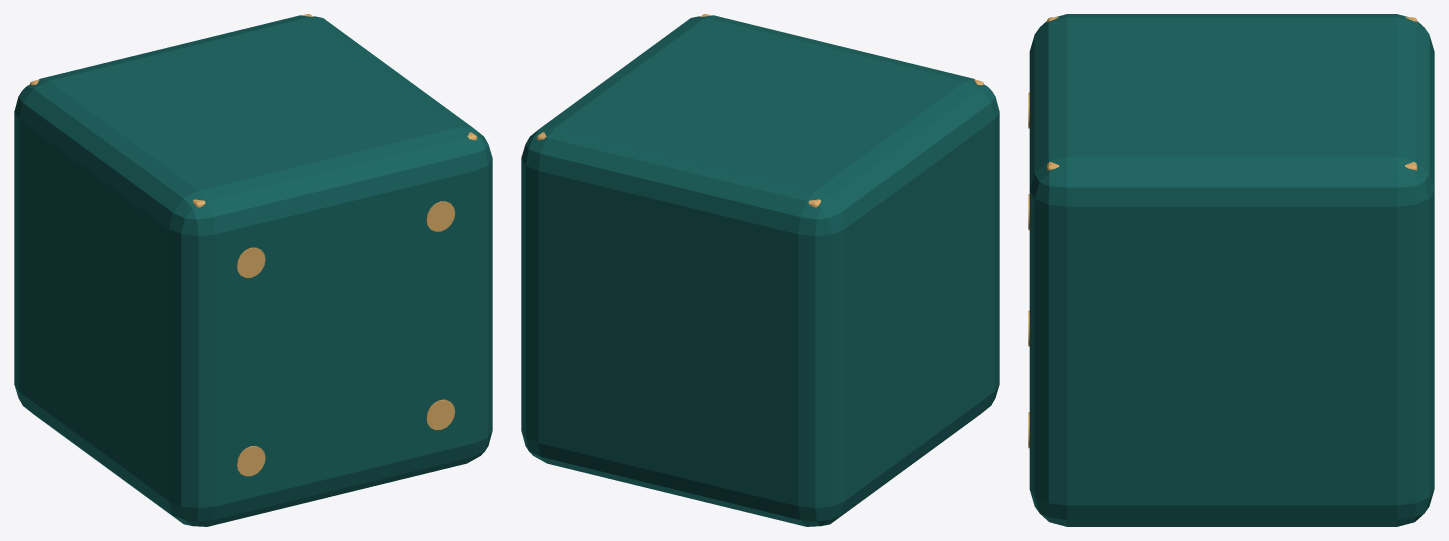
The model's file is block-jade.glb.
The picture shows the model from 3 angles, left to right: view 1: azimuth 30°, elevation 25°; view 2: azimuth 150°, elevation 25°; view 3: azimuth 270°, elevation 25°; orthographic projection. The views are drawn at different scales.
Visible parts, largest first — view 1: block-jade; view 2: block-jade; view 3: block-jade.
Boxes of the visible parts, <box> form: block-jade: <box>14,14,492,526</box>; block-jade: <box>521,14,999,526</box>; block-jade: <box>1028,14,1434,526</box>.
Size of the model in its own units: 0.495 by 0.495 by 0.4965.
